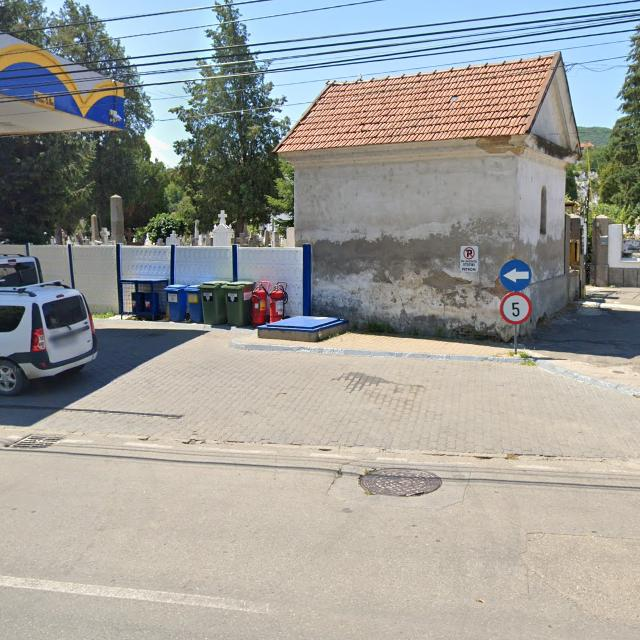forb_speed_over_5: (500, 291, 531, 324)
mand_pass_left: (499, 258, 532, 292)
